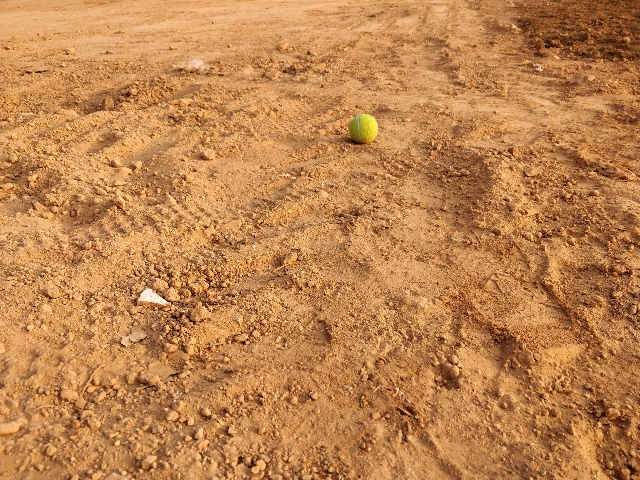ball: (346, 110, 382, 146)
